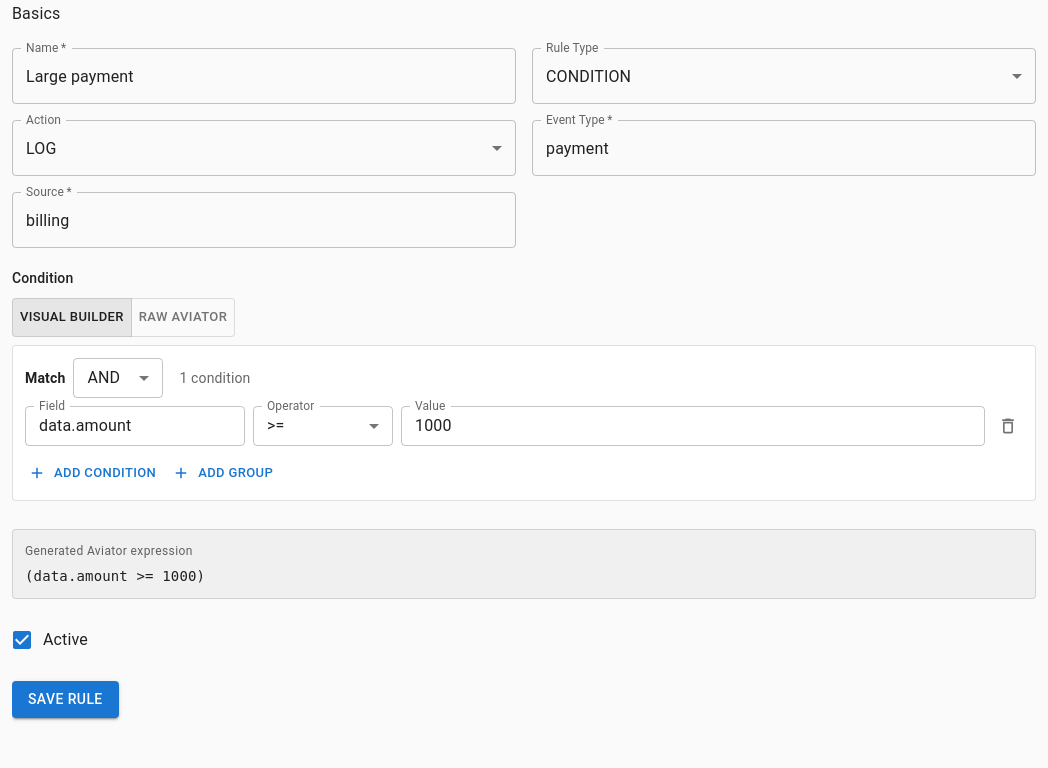
RuleForm › synchronizes visual and raw condition modes
The width and height of the screenshot is (1048, 768).
Click the button "Raw Aviator" at (183, 317), box [131,298,235,337]
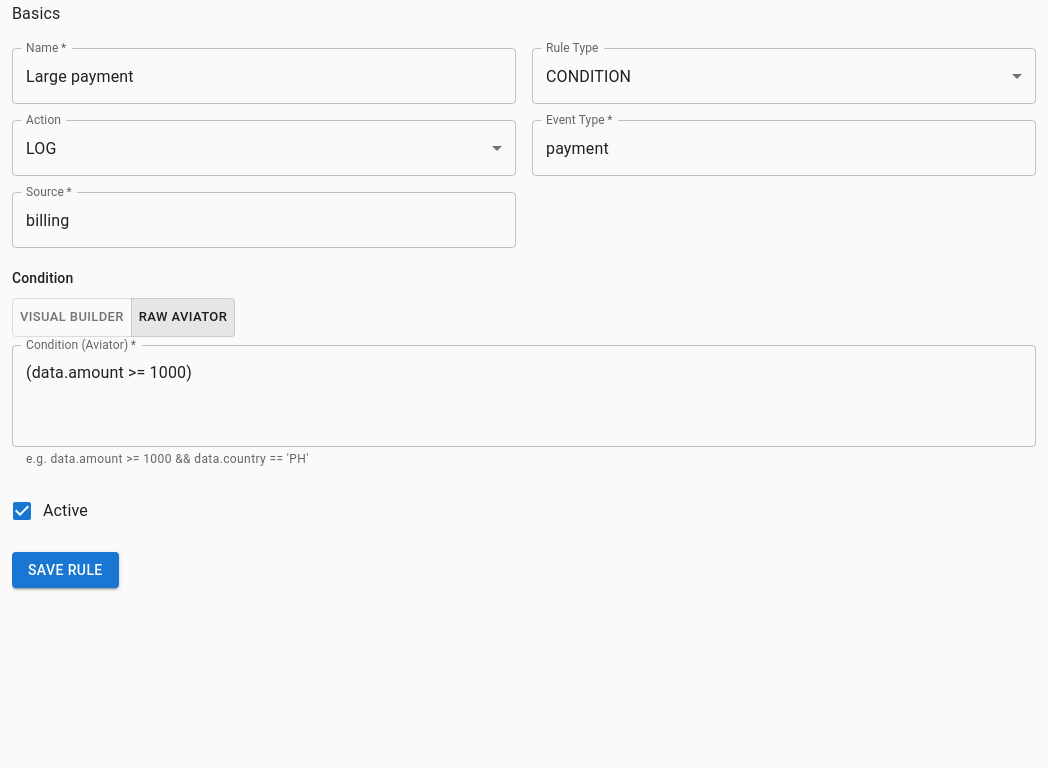
Expected: the text box labelled "Condition (Aviator) *" holds "(data.amount >= 1000)"
Replace the text in the text box labelled "Condition (Aviator) *" with "data.amount + 1 > 10" at (524, 396), box [26,361,1022,430]
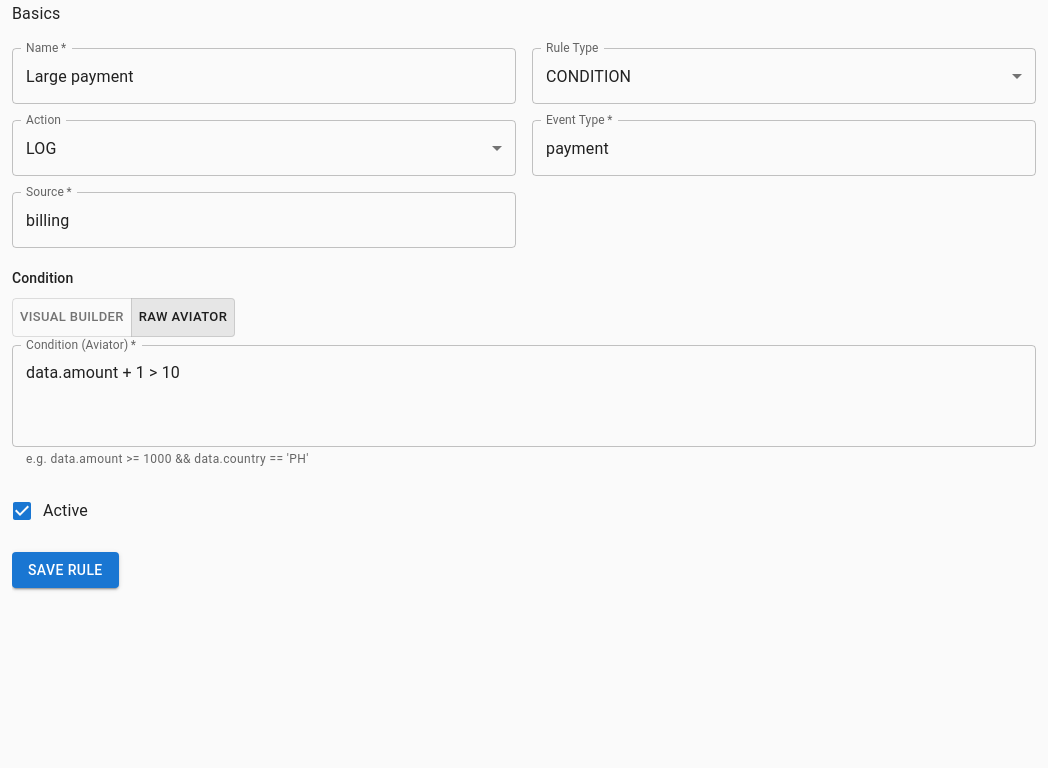
Click the button "Visual Builder" at (72, 317), box [12,298,132,337]
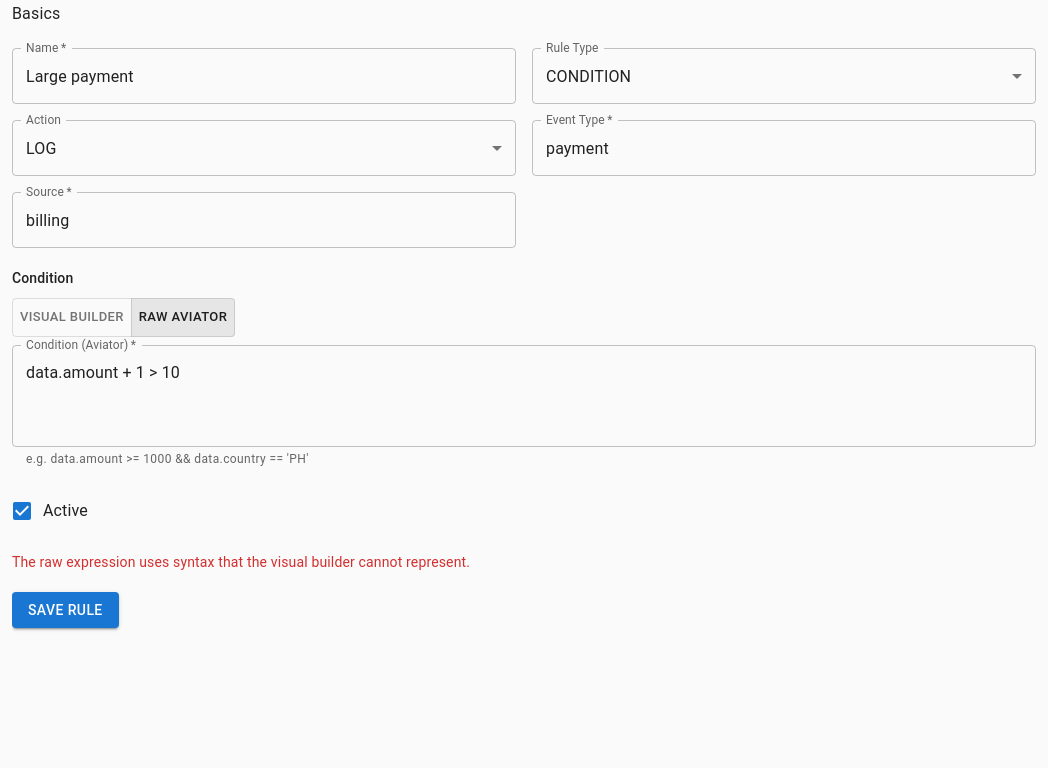
Expected: the text "cannot represent" is shown, [12,554,470,570]
